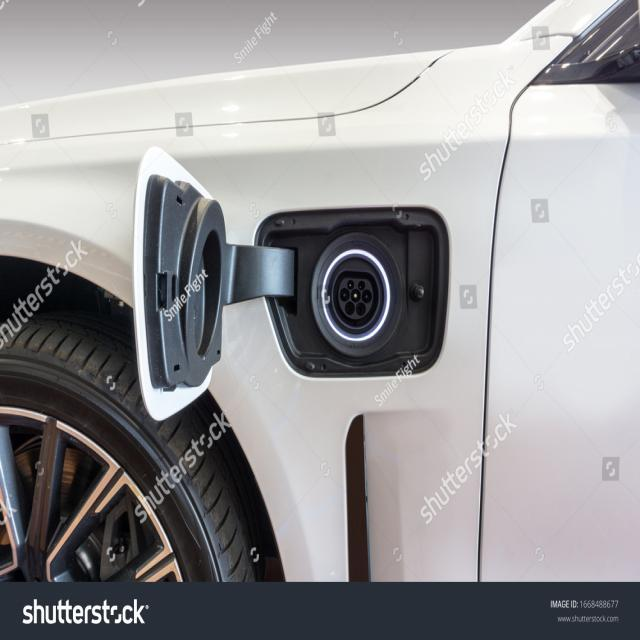Type 2: (306, 233, 420, 359)
